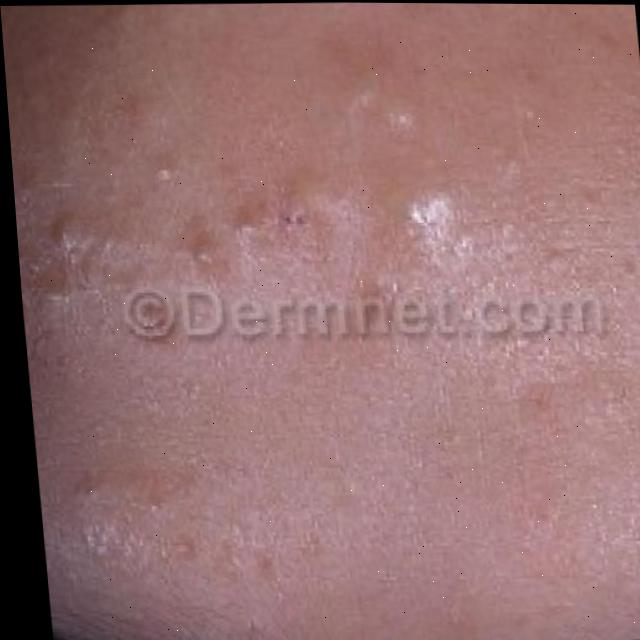Acne: (4, 59, 640, 569)
